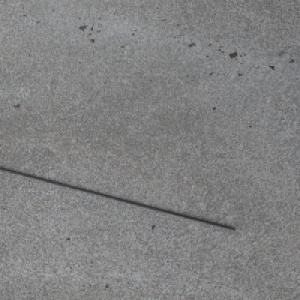LuggagePart: (0, 166, 237, 231)
